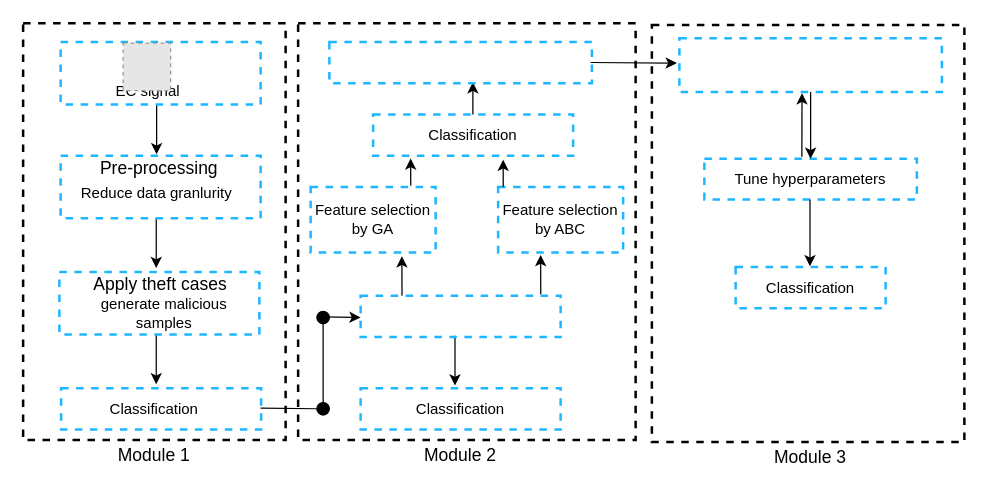
This 986x489 diagram has some shape labels left out. Grey dashed boxes stand in for pictures. Each missing label, with the centre of its shape:
Feature generation: (x=460, y=316)
Features extraction by denoising autoencoder: (x=810, y=64)
Select features with highest F1-socre: (x=460, y=62)
